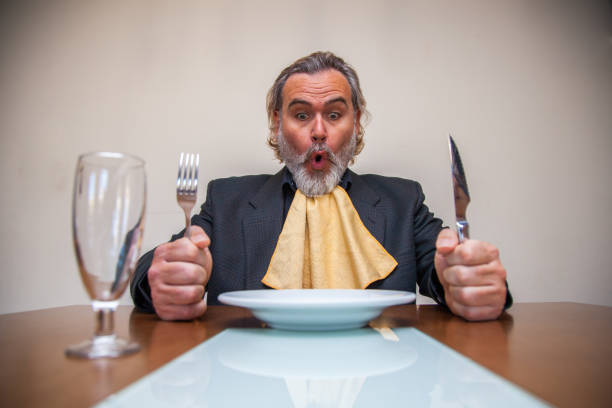knife: (447, 132, 473, 227)
